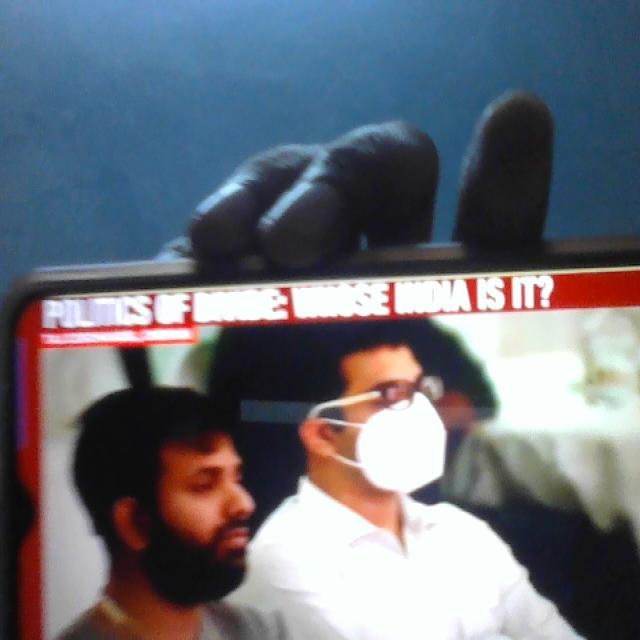fake: (138, 364, 260, 595)
